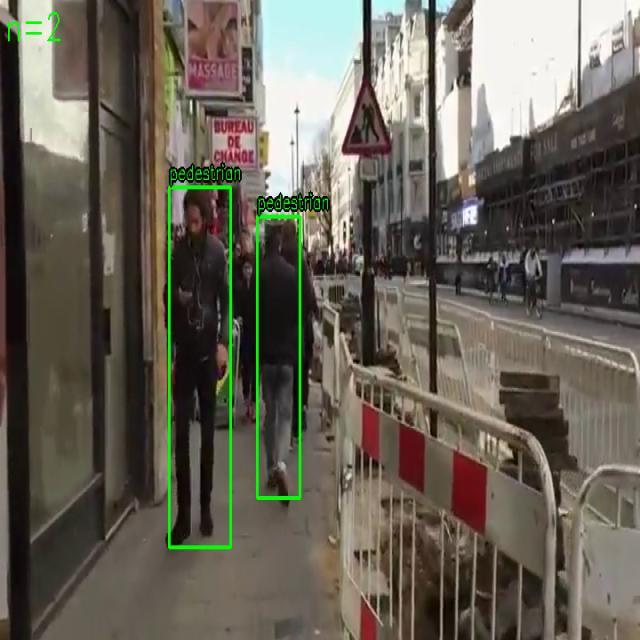with scooter: (169, 186, 231, 548), (256, 216, 300, 499)
